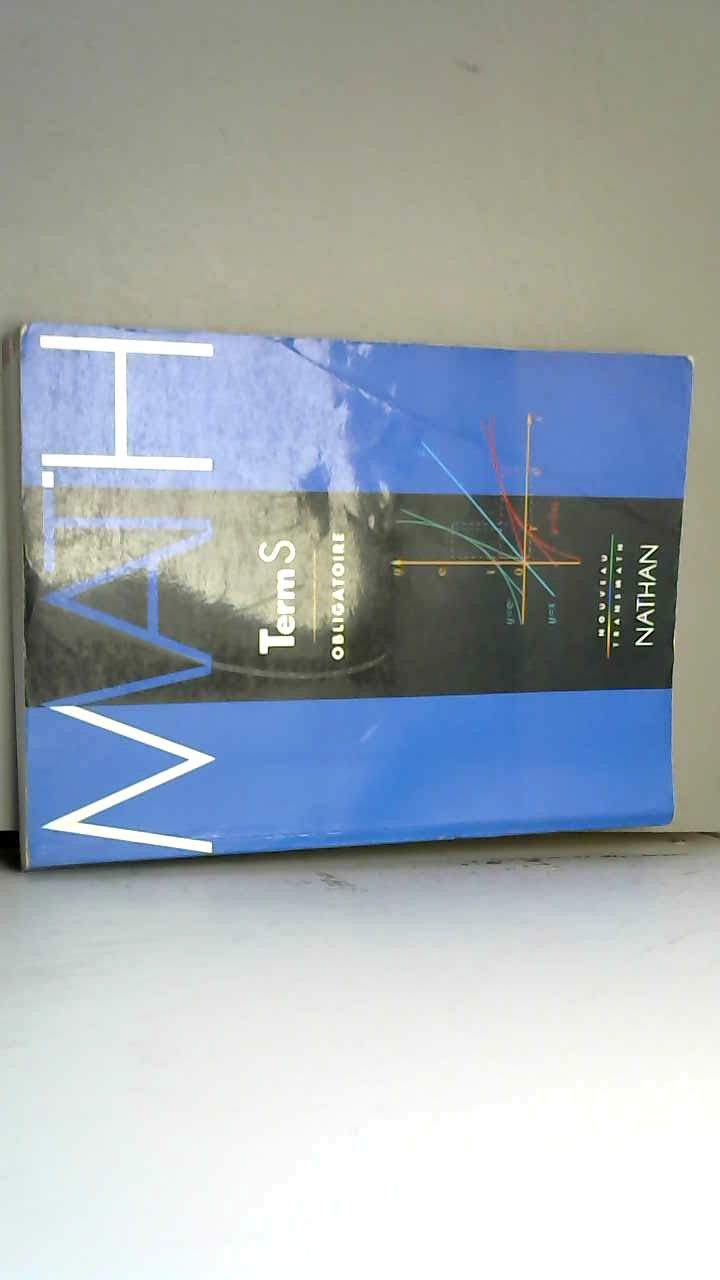book: (0, 306, 703, 888)
